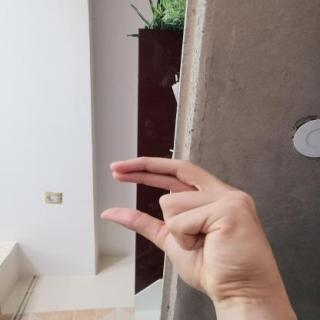DHELL: (90, 150, 286, 304)
